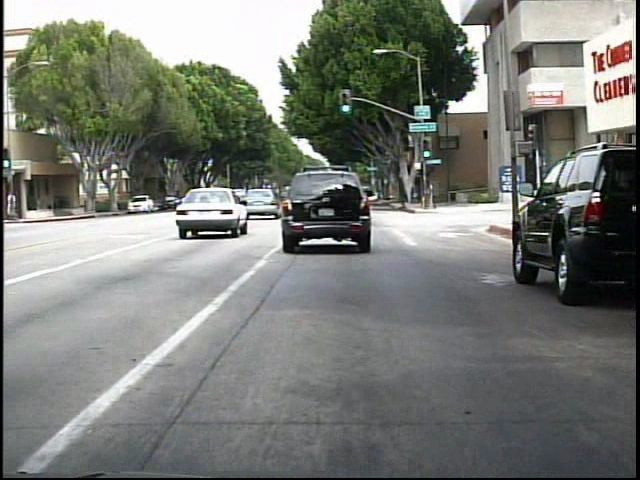person: (9, 188, 27, 219)
